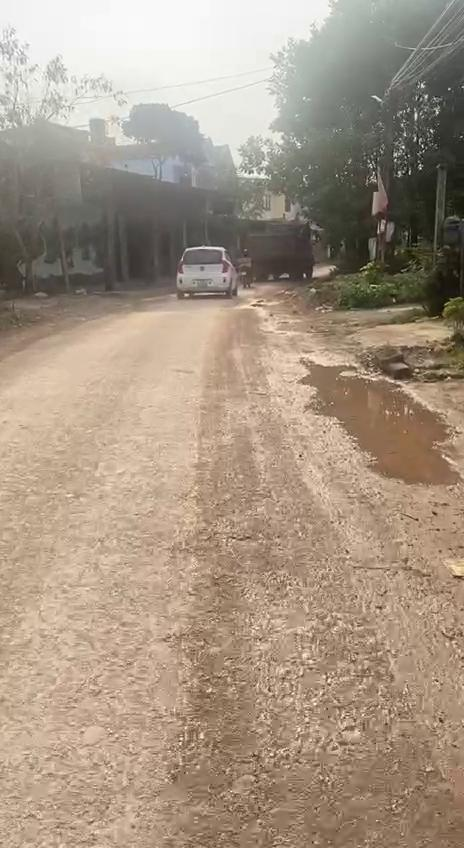pothole: (291, 351, 464, 493)
